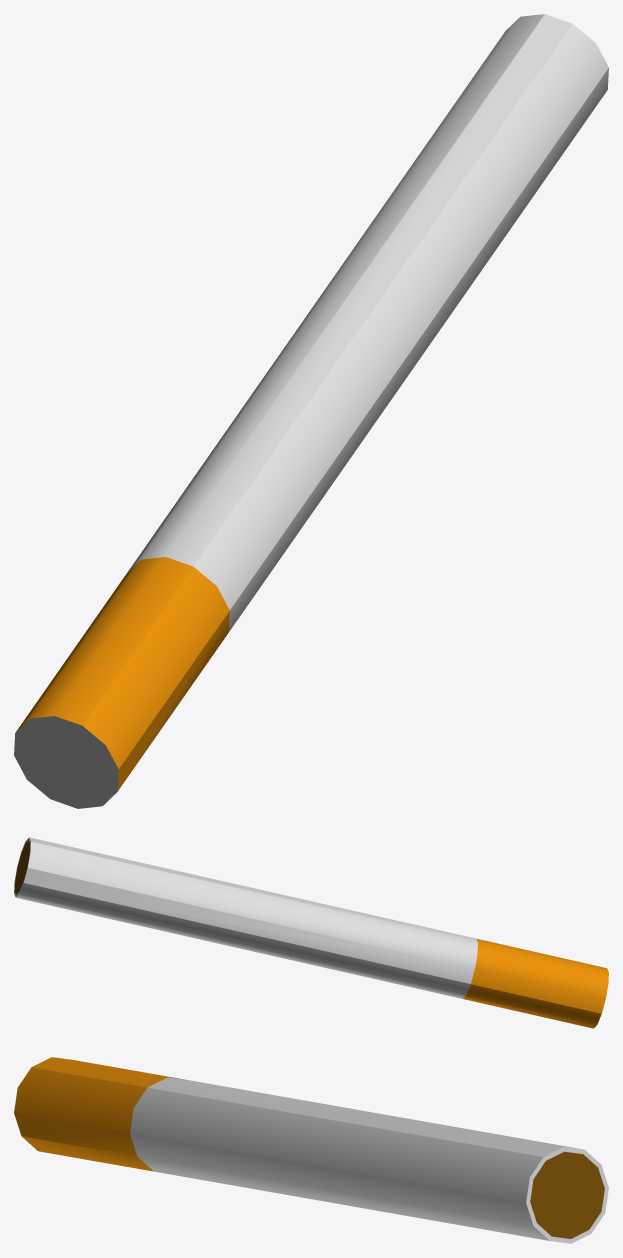
File: ashtray 2.fbx
The picture shows the model from 3 angles, top to bottom: view 1: azimuth 30°, elevation 25°; view 2: azimuth 150°, elevation 25°; view 3: azimuth 270°, elevation 25°; orthographic projection. The views are drawn at different scales.
Parts seen in each view (by area): view 1: Cube.051; view 2: Cube.051; view 3: Cube.051.
Boxes of the visible parts, box(x1,y1,x2,y2) form: Cube.051: box(14, 14, 608, 808); Cube.051: box(14, 837, 608, 1028); Cube.051: box(14, 1057, 608, 1243).
Bounding box in the file's own units: 8.04 × 3.44 × 5.8.
